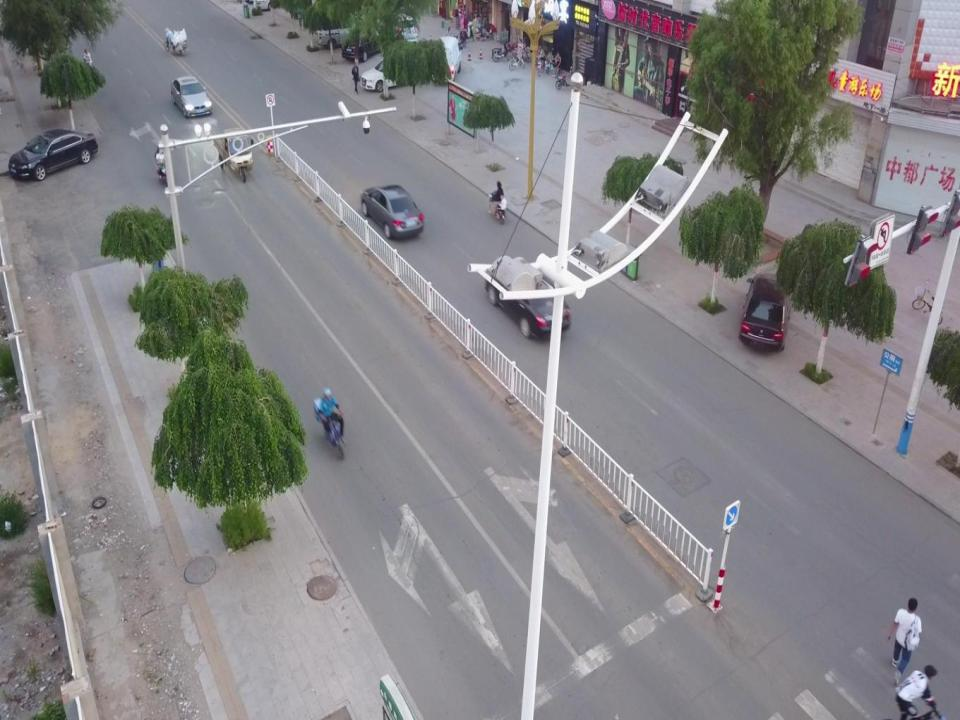car: (486, 262, 572, 340), (7, 129, 97, 183), (737, 269, 792, 354), (360, 183, 424, 239), (360, 55, 422, 91), (172, 74, 212, 117), (340, 28, 386, 60)
van: (310, 13, 368, 48), (430, 35, 462, 84), (393, 13, 419, 46)
